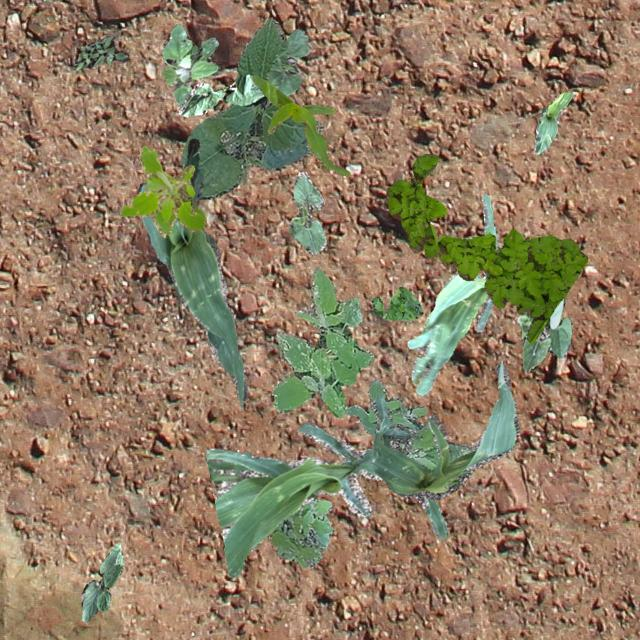crop: (204, 421, 446, 576), (136, 138, 248, 408), (182, 15, 322, 198), (372, 358, 518, 498), (406, 193, 496, 394), (252, 74, 348, 176), (516, 296, 570, 371), (178, 74, 266, 115), (80, 542, 122, 622), (288, 170, 326, 253), (264, 27, 310, 94), (532, 92, 574, 154)
weed: (386, 152, 586, 342), (272, 266, 372, 416), (344, 378, 472, 469), (120, 144, 206, 236), (160, 24, 218, 106), (268, 498, 332, 568), (369, 286, 422, 320), (74, 36, 128, 68)
